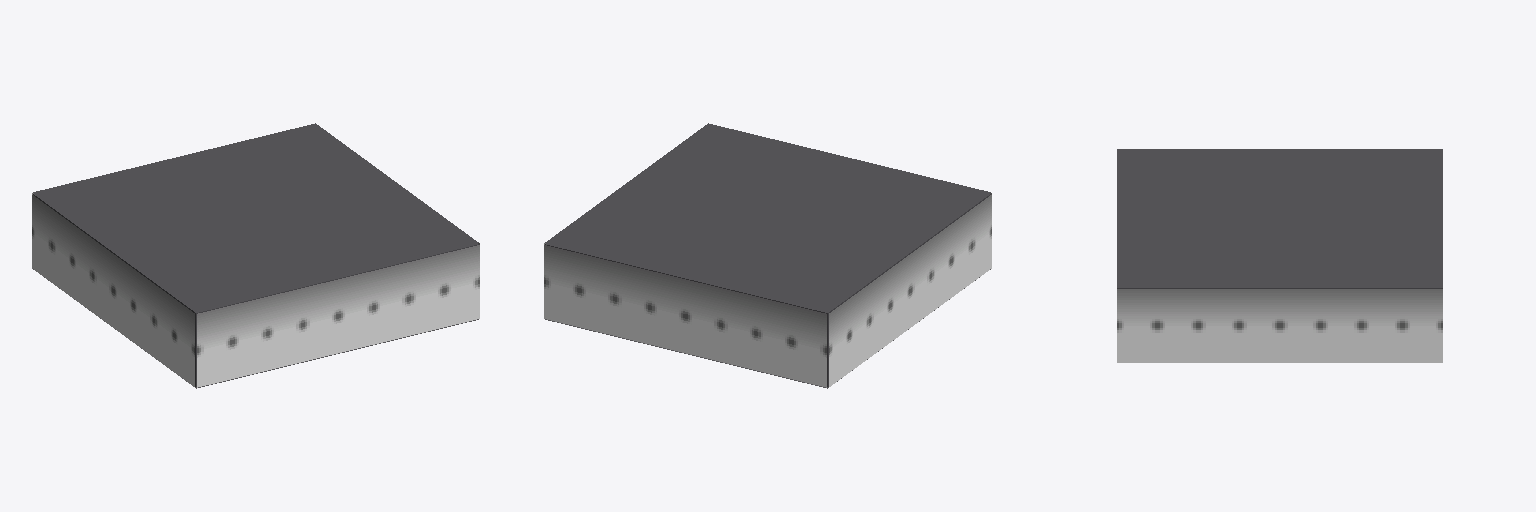
The picture shows the model from 3 angles: view 1: azimuth 30°, elevation 25°; view 2: azimuth 150°, elevation 25°; view 3: azimuth 270°, elevation 25°; orthographic projection.
Parts seen in each view (by area): view 1: Decoupler6, Decoupler4, Decoupler3, Decoupler1; view 2: Decoupler6, Decoupler7, Decoupler3, Decoupler1; view 3: Decoupler6, Decoupler5, Decoupler1.
Boxes of the visible parts, x1=… form: Decoupler6: x1=33, y1=123, x2=478, y2=311; Decoupler4: x1=197, y1=245, x2=479, y2=387; Decoupler3: x1=32, y1=195, x2=194, y2=386; Decoupler1: x1=33, y1=193, x2=478, y2=386; Decoupler6: x1=545, y1=123, x2=990, y2=311; Decoupler7: x1=544, y1=245, x2=826, y2=387; Decoupler3: x1=829, y1=195, x2=991, y2=386; Decoupler1: x1=545, y1=193, x2=990, y2=386; Decoupler6: x1=1117, y1=149, x2=1442, y2=286; Decoupler5: x1=1117, y1=289, x2=1442, y2=362; Decoupler1: x1=1117, y1=287, x2=1442, y2=288.
Bounding box in the file's own units: 4.04 × 1.04 × 4.04.
3 materials, 1 textured.